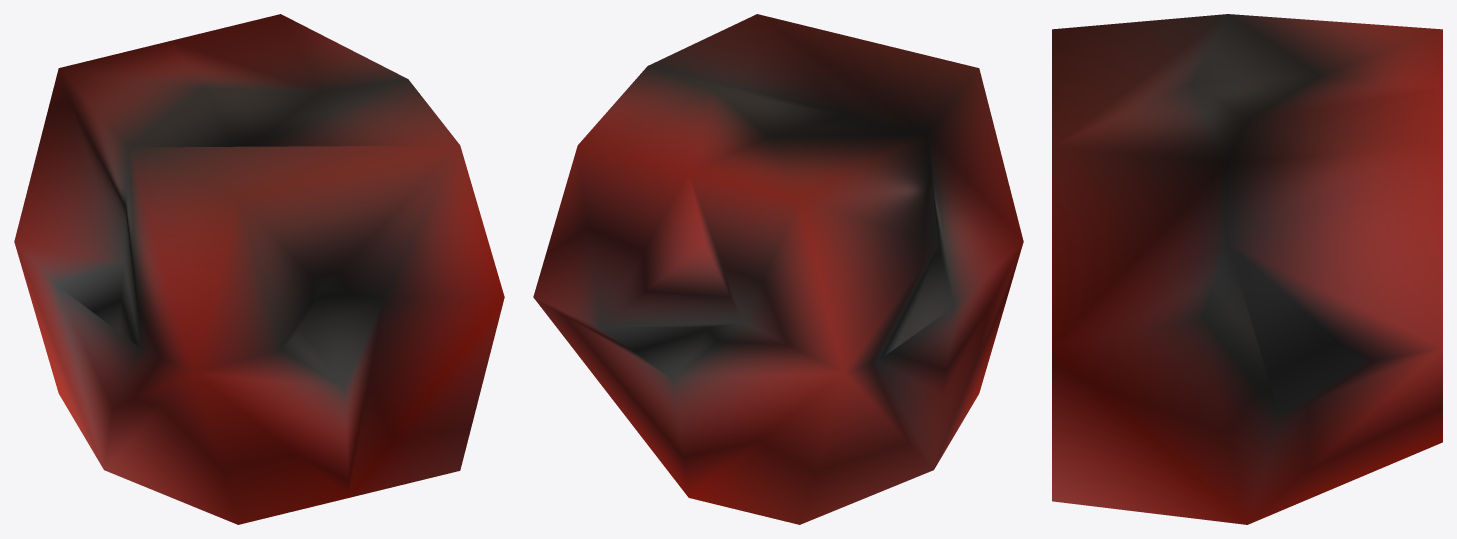
Rendered from solar_box_lod7.glb.
3 renders of one model, left to right at view 1: azimuth 30°, elevation 25°; view 2: azimuth 150°, elevation 25°; view 3: azimuth 270°, elevation 25°, orthographic. The views are drawn at different scales.
Parts seen in each view (by area): view 1: solar_box; view 2: solar_box; view 3: solar_box.
Boxes of the visible parts, box(x1,y1,x2,y2) form: solar_box: box(14, 14, 504, 524); solar_box: box(533, 14, 1023, 524); solar_box: box(1052, 14, 1442, 524).
Bounding box in the file's own units: 2 × 2 × 2.
